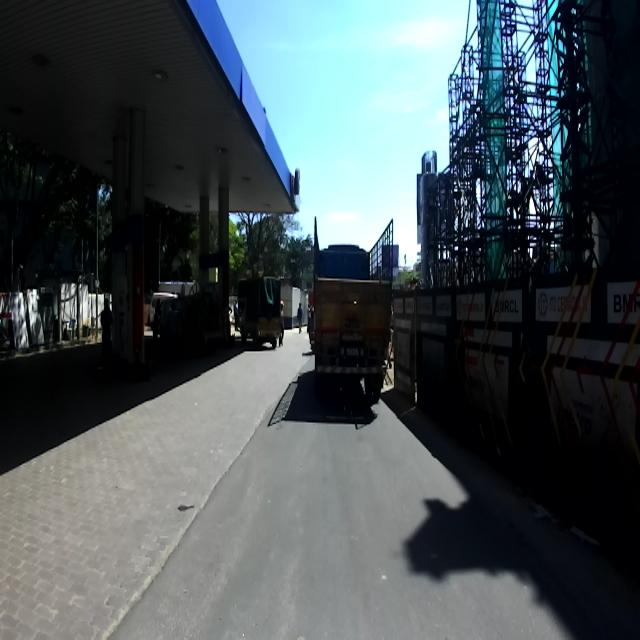auto ahead at: (238, 270, 287, 354)
truck ahead at: (307, 207, 395, 384)
